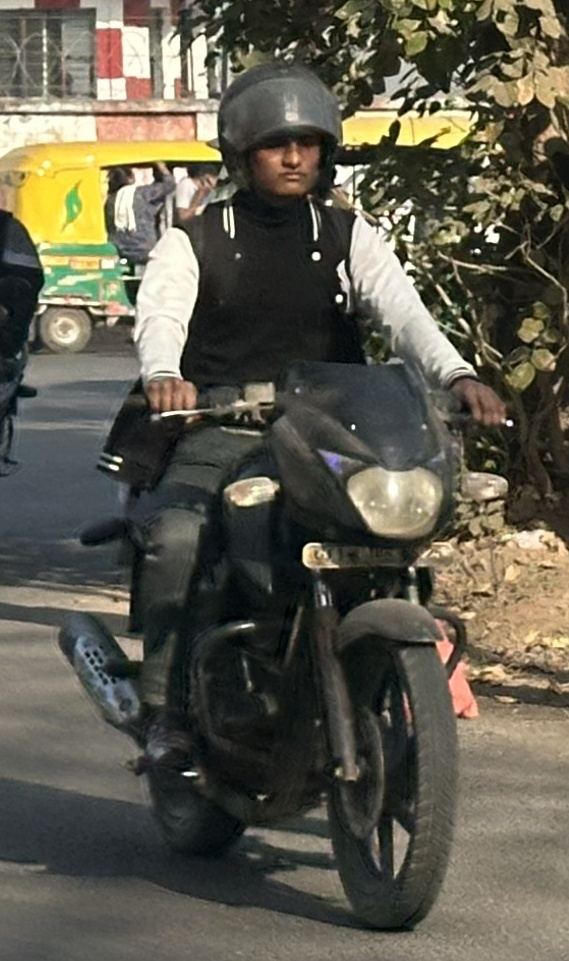BikeWithRider: (40, 46, 519, 939)
Helmet: (207, 53, 355, 219)
